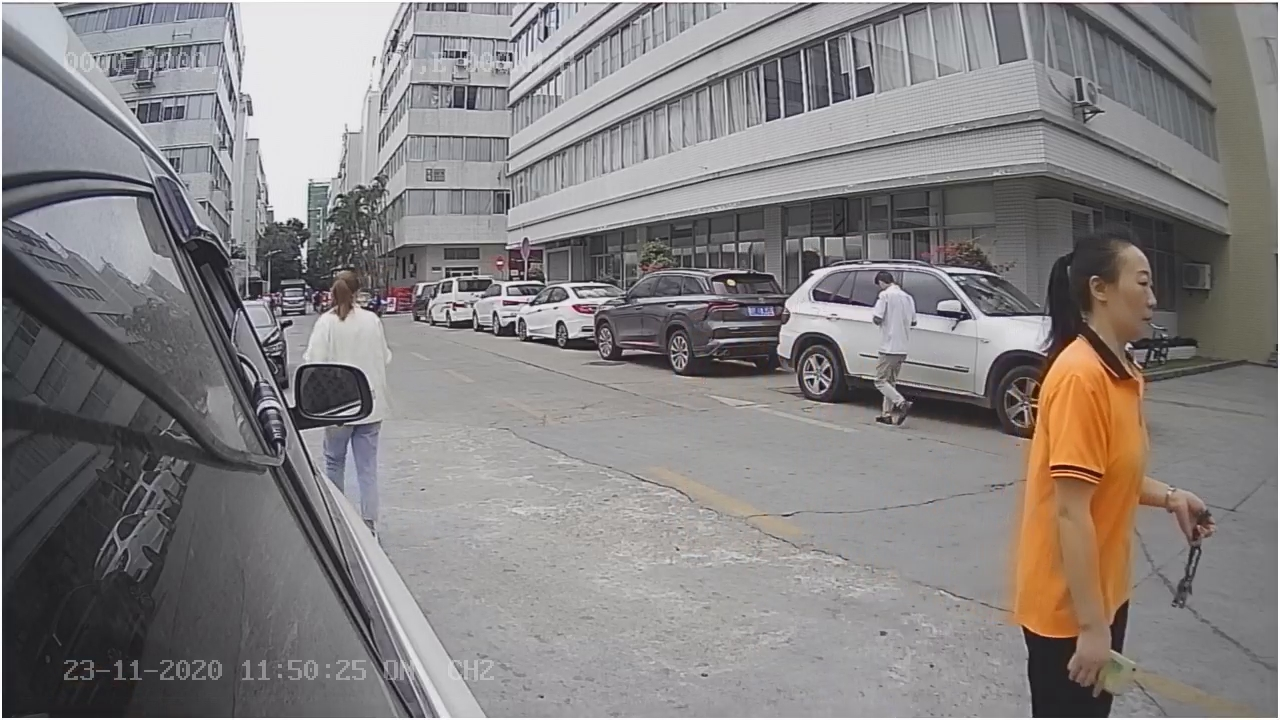person: (1011, 228, 1217, 554), (862, 268, 918, 429)
